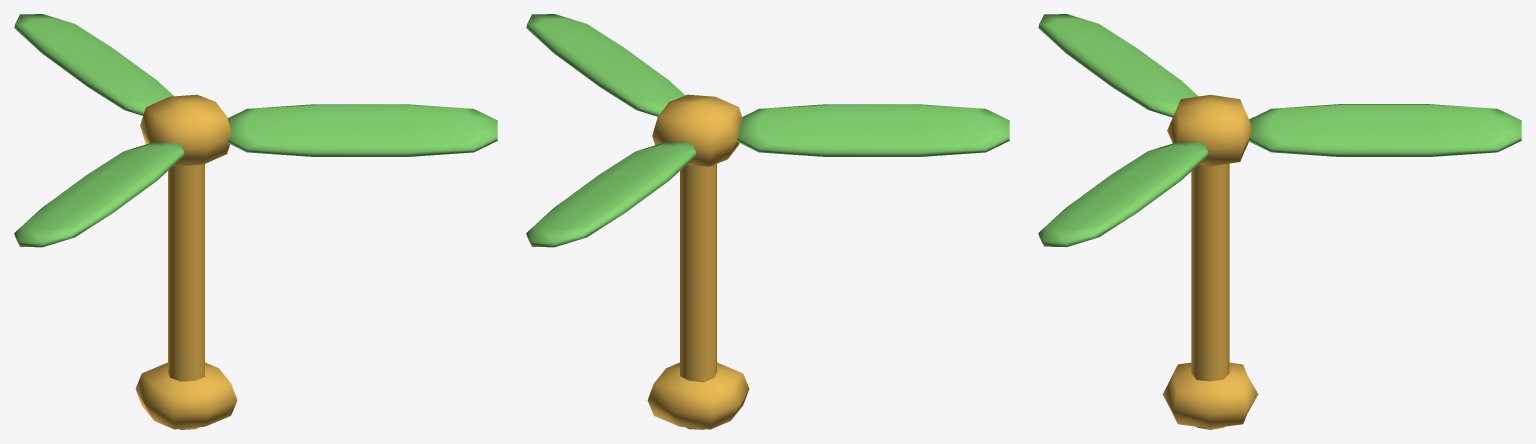
File: courier-rotor.glb
3 renders of one model, left to right at view 1: azimuth 30°, elevation 25°; view 2: azimuth 150°, elevation 25°; view 3: azimuth 270°, elevation 25°, orthographic.
Parts seen in each view (by area): view 1: courier-rotor; view 2: courier-rotor; view 3: courier-rotor.
Boxes of the visible parts, <box> form: courier-rotor: <box>14,14,497,429</box>; courier-rotor: <box>526,14,1009,429</box>; courier-rotor: <box>1038,14,1521,429</box>.
Size of the model in its own units: 0.6356 by 0.4048 by 0.5559.
